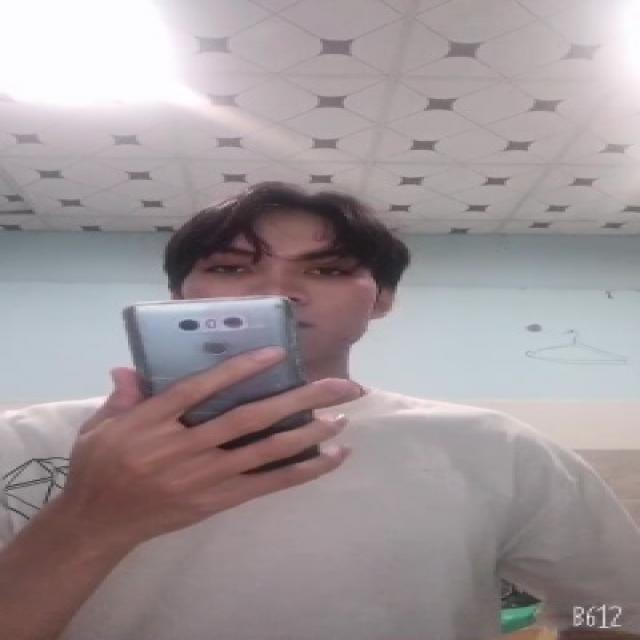Phone: (119, 292, 325, 472)
